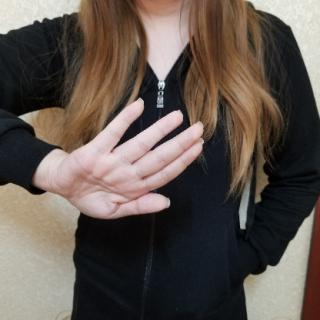SEEN: (50, 92, 203, 223)
